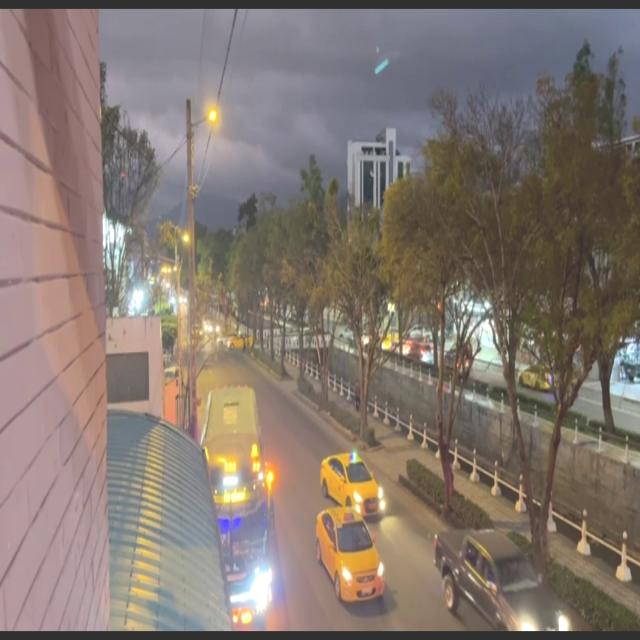CMT: (434, 534, 571, 638)
SED: (321, 513, 384, 602), (324, 458, 385, 514)
